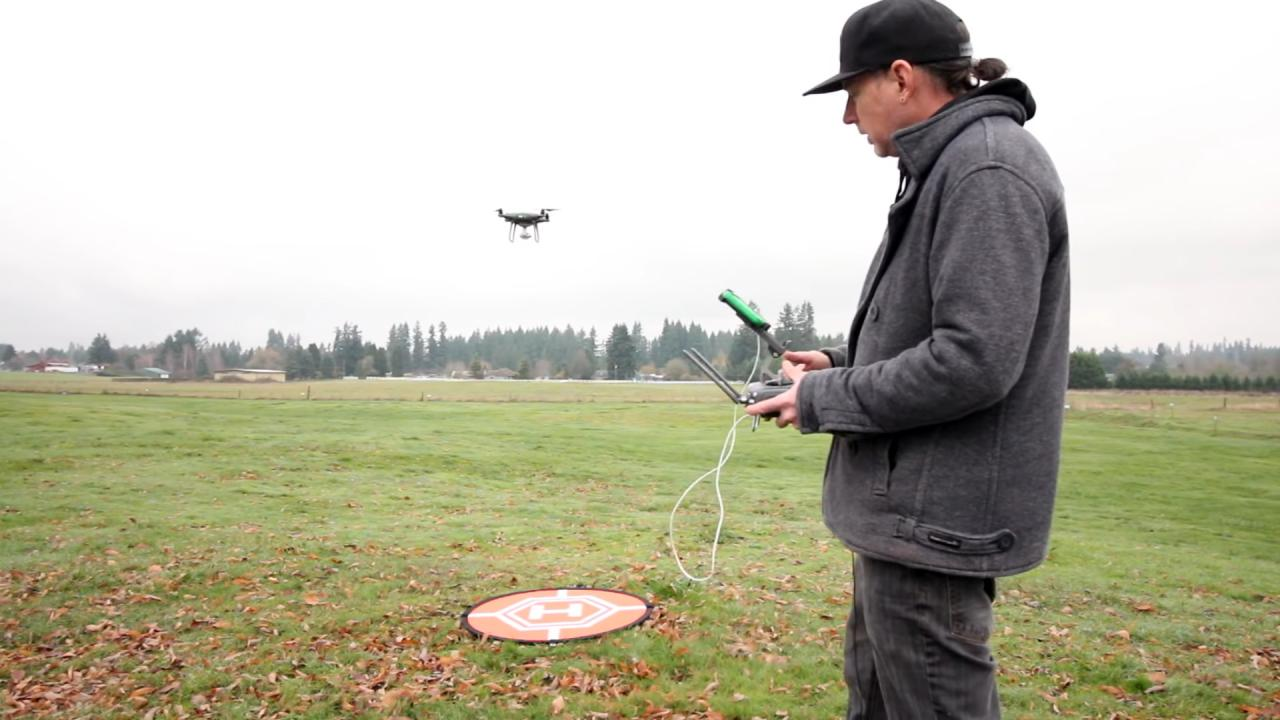Drone: (481, 193, 566, 252)
